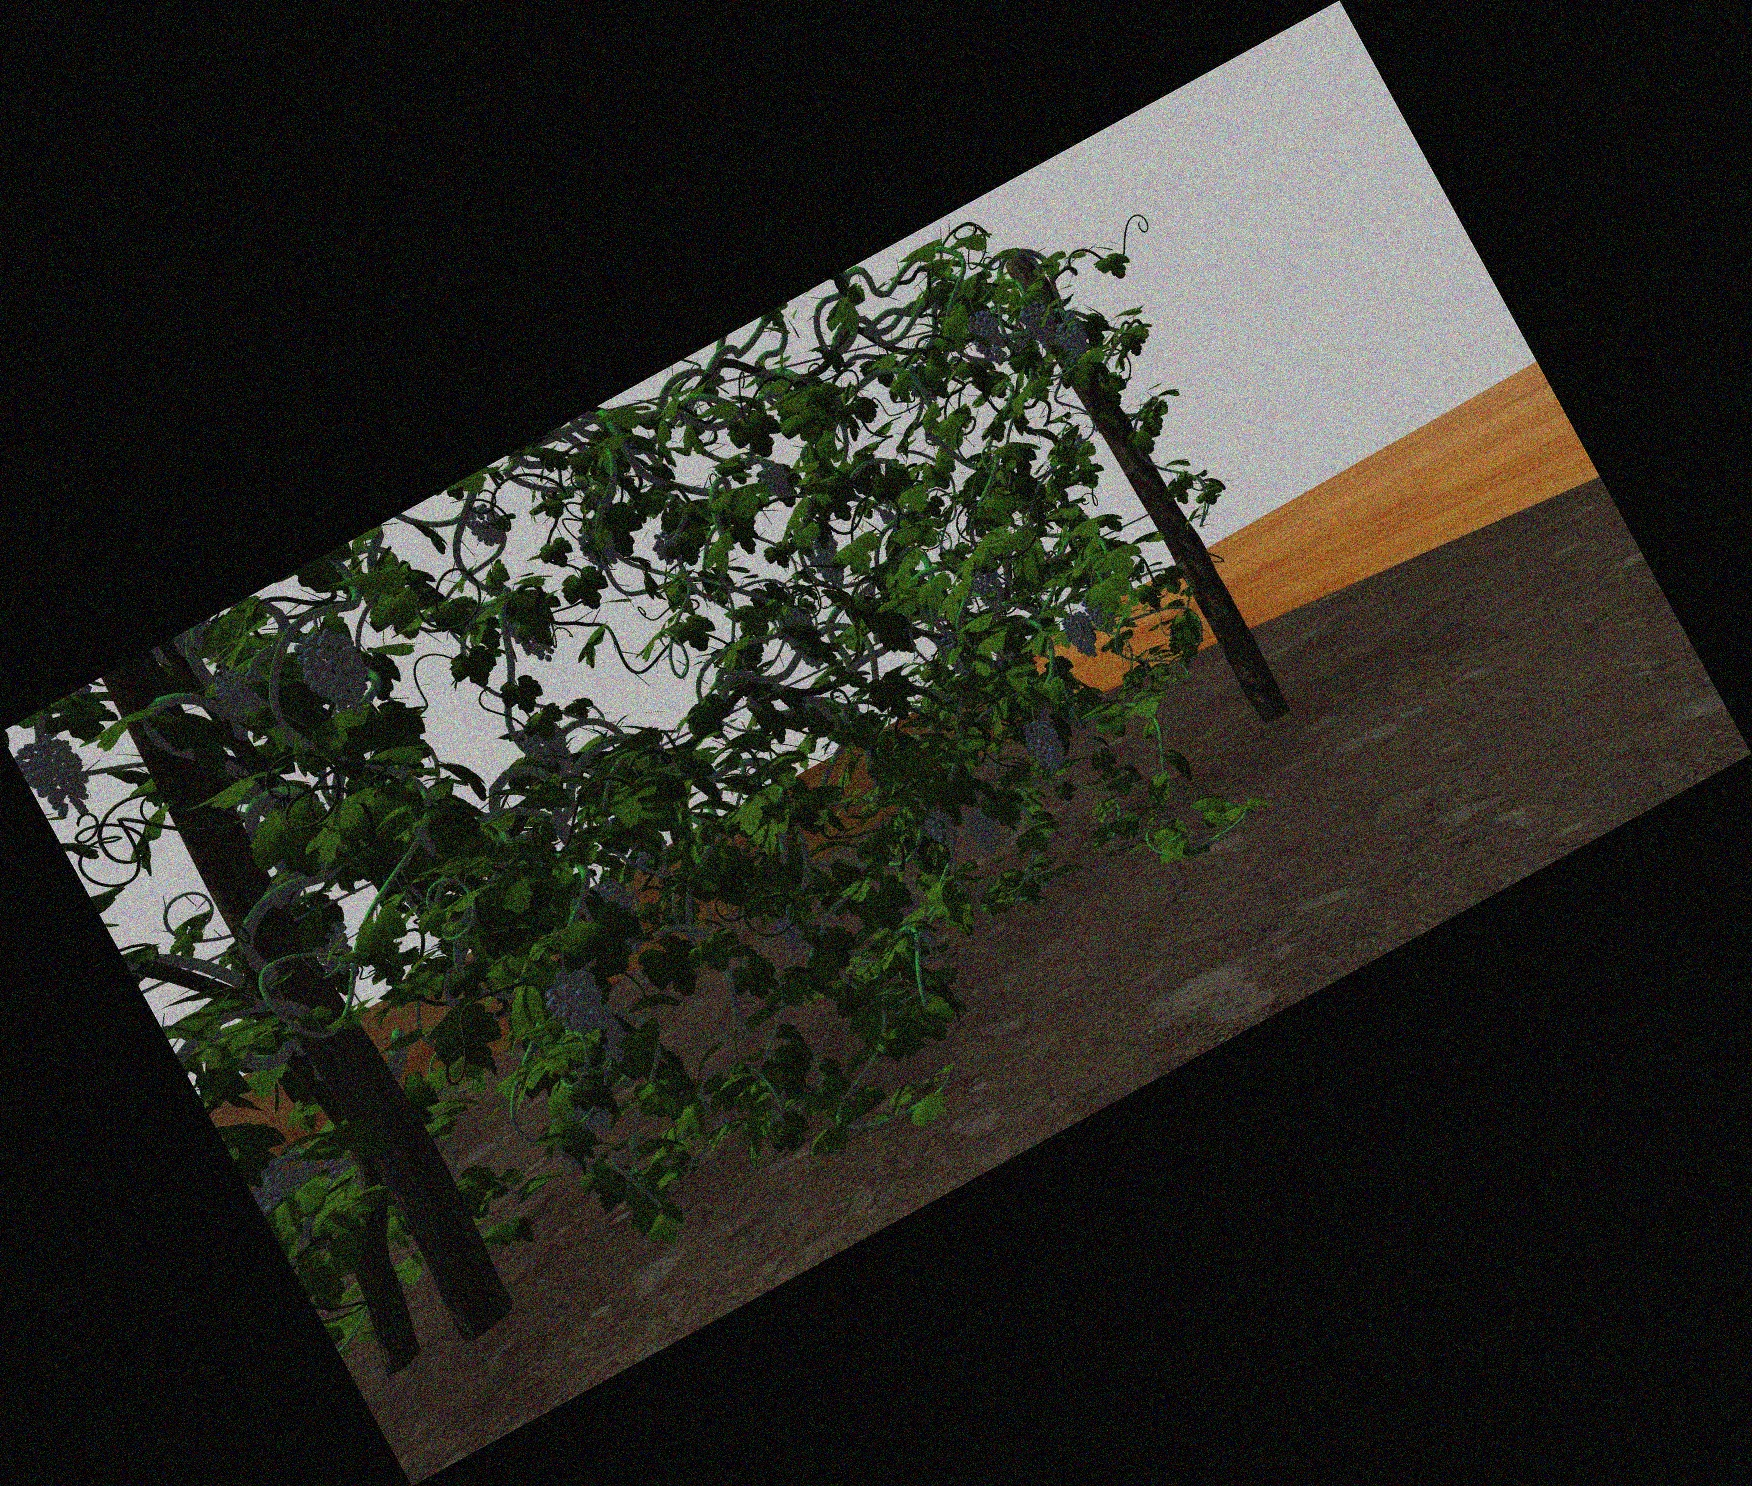grape: (306, 629, 365, 714), (35, 736, 85, 818), (550, 976, 603, 1028), (256, 1159, 318, 1196), (217, 668, 261, 716), (528, 722, 567, 772), (1031, 719, 1064, 777), (974, 311, 1005, 366), (813, 535, 844, 587), (973, 808, 1003, 854), (1068, 613, 1096, 657), (1027, 301, 1055, 345), (473, 509, 504, 545), (779, 915, 810, 952), (974, 565, 1002, 604), (1059, 318, 1087, 357), (927, 809, 955, 846), (762, 458, 788, 497), (1090, 599, 1115, 632), (651, 531, 678, 554)
